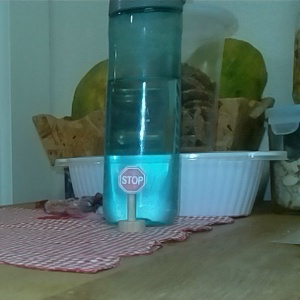stop sign: (114, 163, 149, 235)
